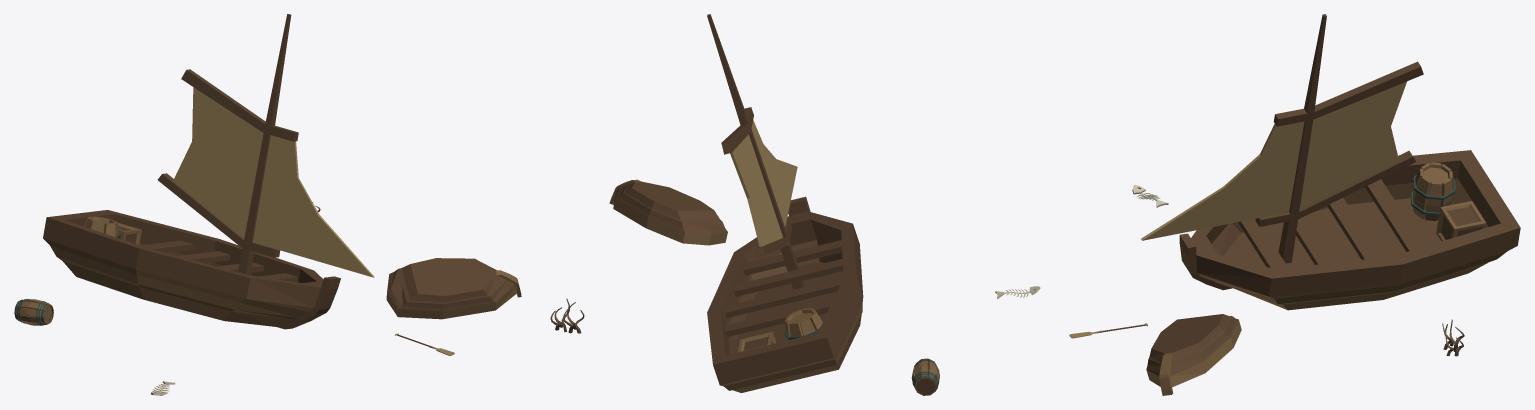
Rendered from LmWreck.glb.
3 renders of one model, left to right at view 1: azimuth 30°, elevation 25°; view 2: azimuth 150°, elevation 25°; view 3: azimuth 270°, elevation 25°, orthographic. The views are drawn at different scales.
Visible parts, largest first — view 1: LmWreck; view 2: LmWreck; view 3: LmWreck.
Boxes of the visible parts, x1,y1,x2,y2 form: LmWreck: (14, 14, 521, 395); LmWreck: (550, 14, 1040, 395); LmWreck: (1069, 14, 1520, 395).
Size of the model in its own units: 14.39 by 9.64 by 12.59.
